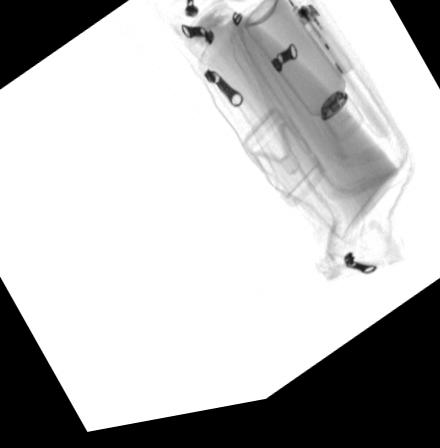Lighter: (291, 15, 354, 91)
Sprayer: (243, 2, 365, 158)
